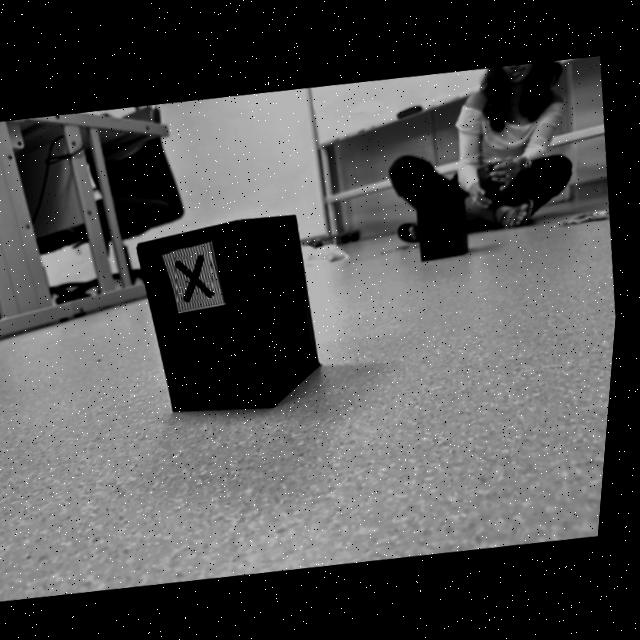X: (180, 254, 218, 300)
